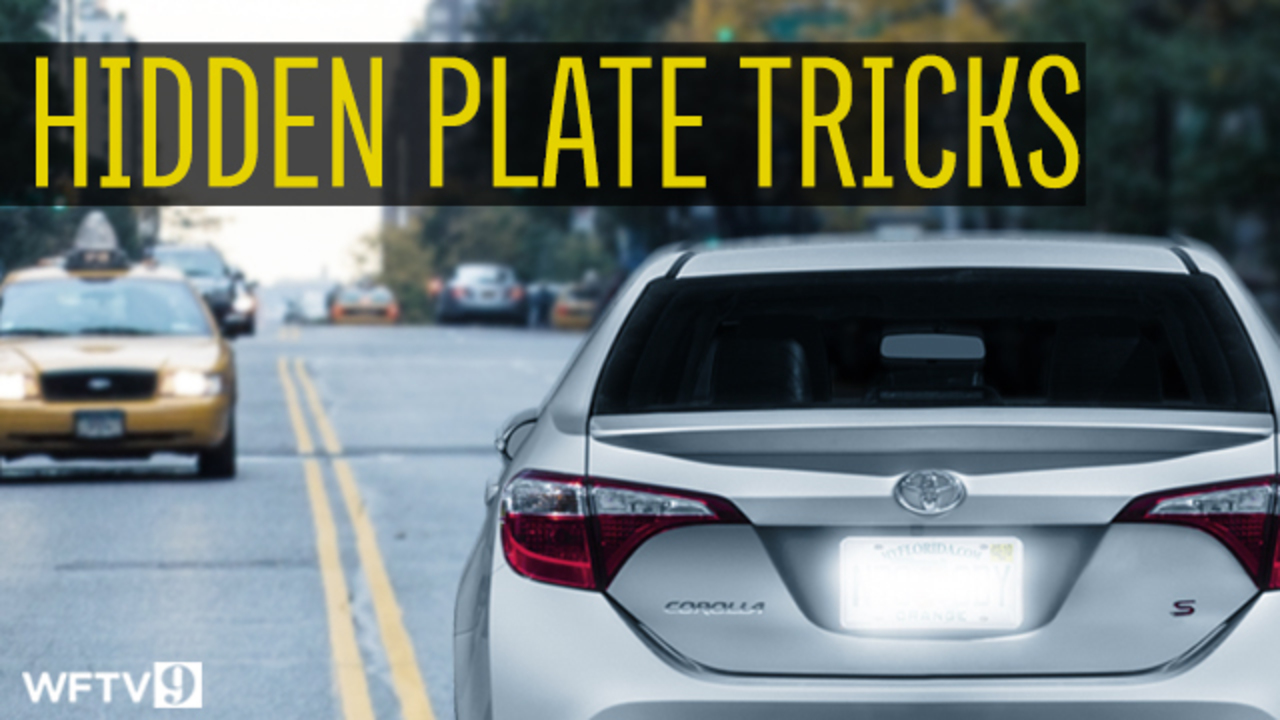license plate: (834, 533, 1028, 639)
